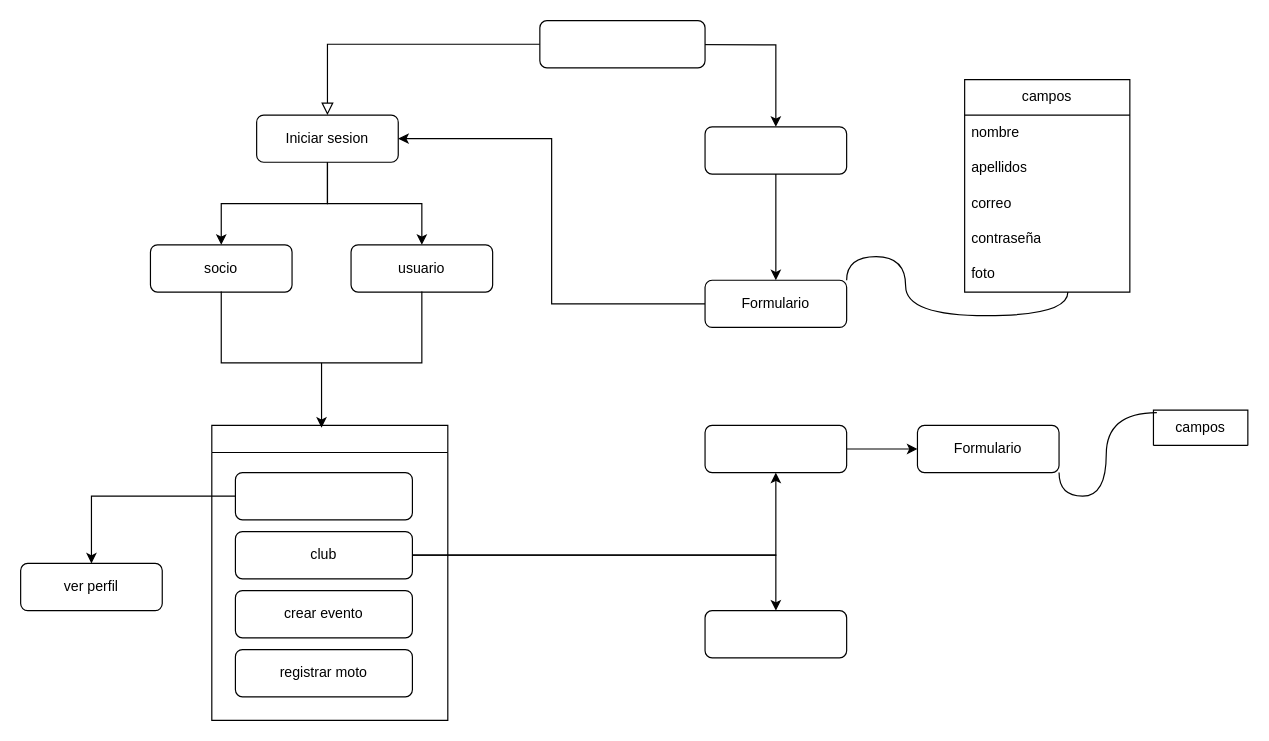
Some shapes in this 1269 by 741 pixel diagram are drawn without their labels. The shapes that lost their labels are listed below. From the top down, each one's box as (x1, y1, x2, y2) in pixels, then its label:
(539, 19, 705, 68): Menú principal motos
(704, 126, 847, 174): registrarse
(704, 424, 847, 473): crear club
(234, 471, 412, 520): Perfil
(211, 424, 448, 720): opciones menú
(704, 609, 847, 658): unirse a un club
